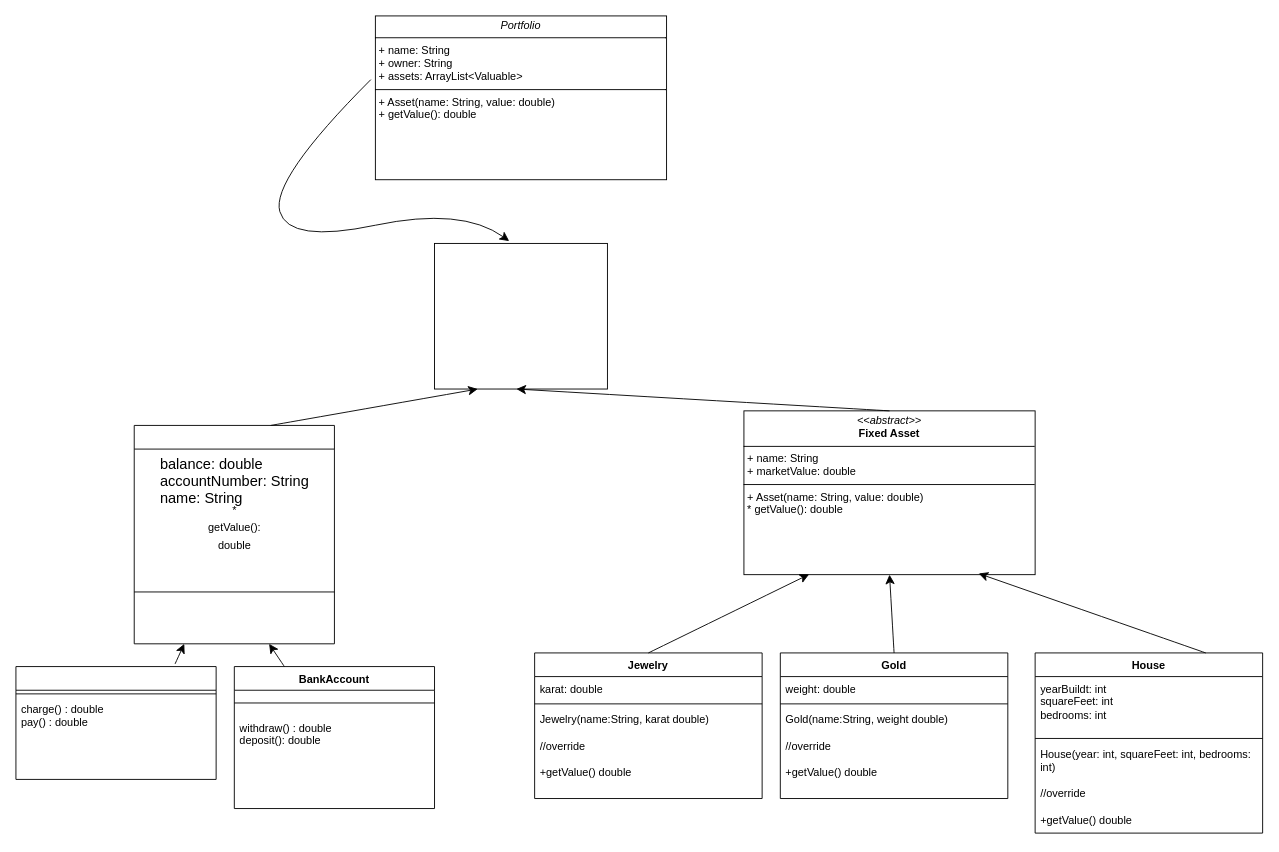
Image size: 1279x852. Some labels were removed from this diagram. The box of each missing label's shape, as (x1, y1, x2, y2) in pixels:
<<Interface>> Valuable + getValue() : double + getName(): String: (434, 243, 607, 389)
Credit Card: (15, 666, 216, 779)
Liquid Account: (133, 425, 334, 644)
